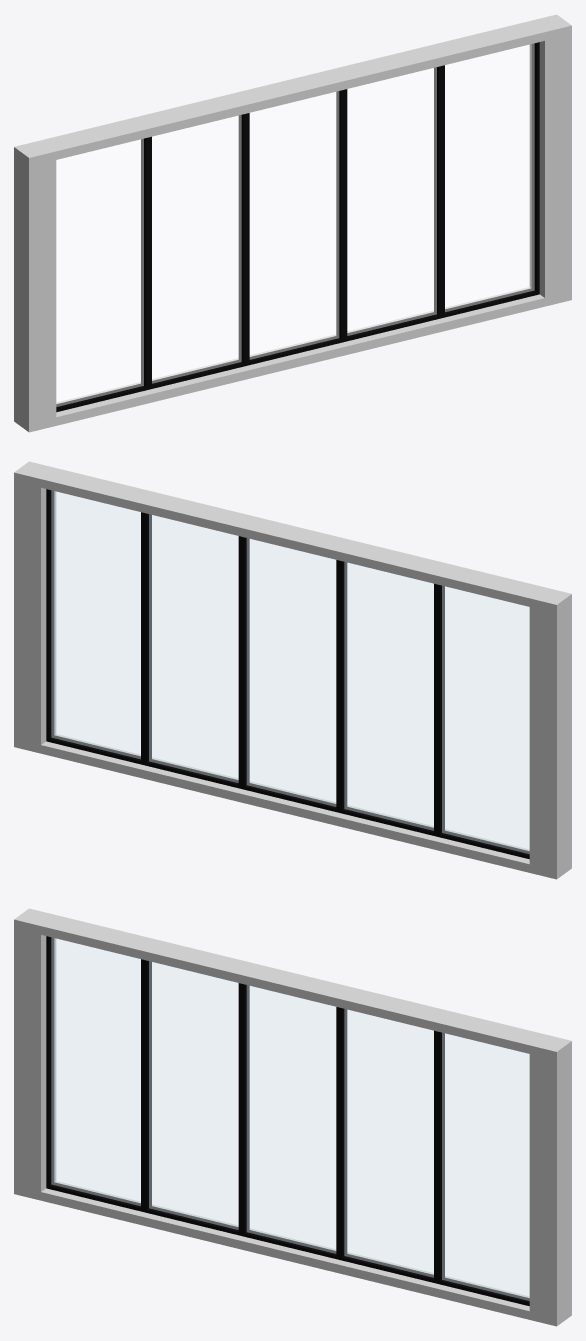
File: Window_Wall01.glb
The picture shows the model from 3 angles, top to bottom: view 1: azimuth 30°, elevation 25°; view 2: azimuth 150°, elevation 25°; view 3: azimuth 330°, elevation 25°; orthographic projection.
Visible parts, largest first — view 1: Window01, Window_Wall01, Window_Frame01; view 2: Window01, Window_Wall01, Window_Frame01; view 3: Window01, Window_Wall01, Window_Frame01.
Part boxes in pixels (x1,y1,x2,y2): Window01: (56,43,534,406); Window_Wall01: (14,14,571,432); Window_Frame01: (56,42,539,412); Window01: (51,490,529,853); Window_Wall01: (14,461,571,879); Window_Frame01: (46,489,529,859); Window01: (51,937,529,1300); Window_Wall01: (14,908,571,1326); Window_Frame01: (46,936,529,1306).
Size of the model in its own units: 6.2 by 3 by 0.3.
3 materials, 1 textured.
